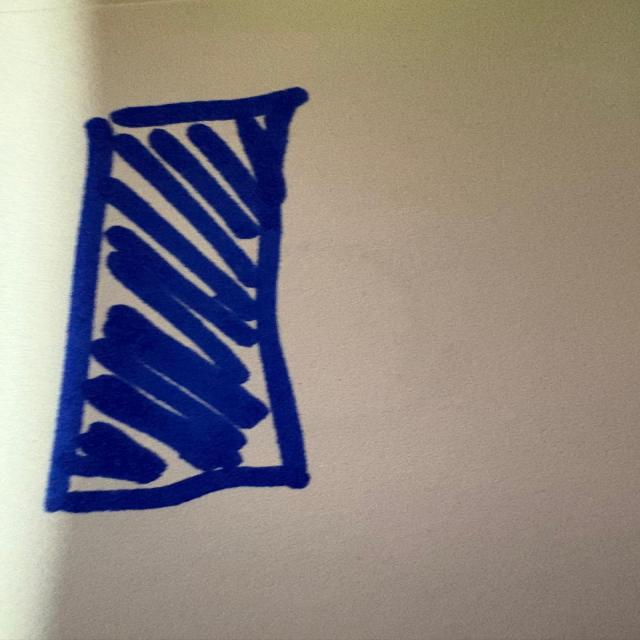Rectangle: (38, 82, 320, 518)
